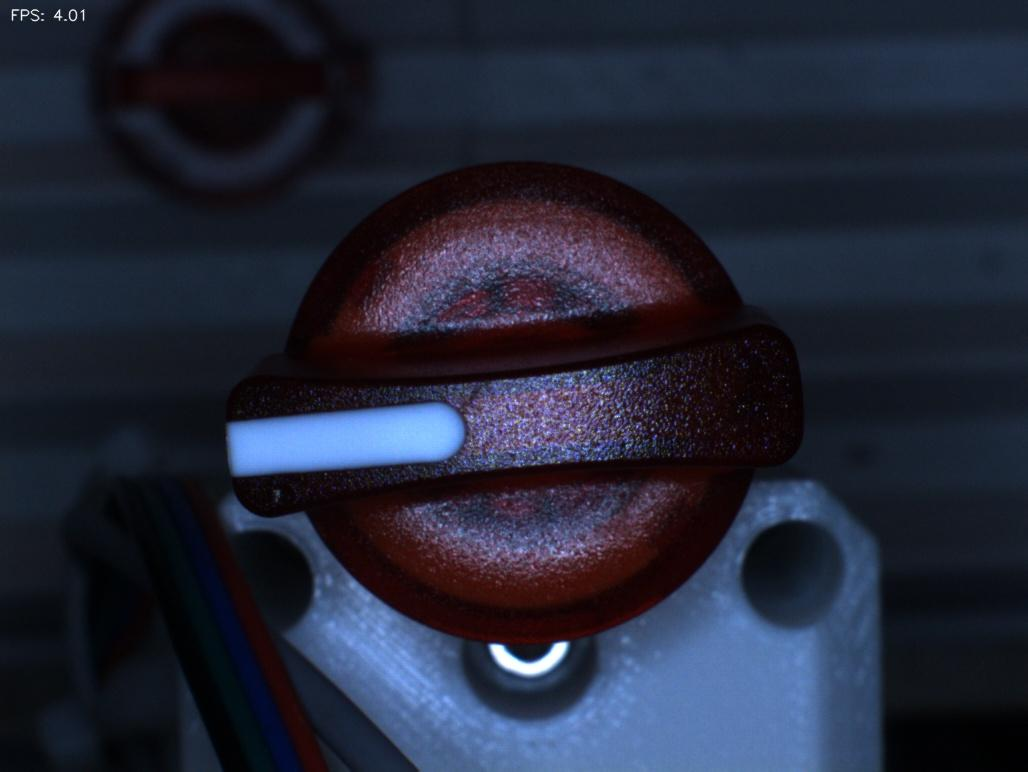Choc: (234, 465, 335, 548)
